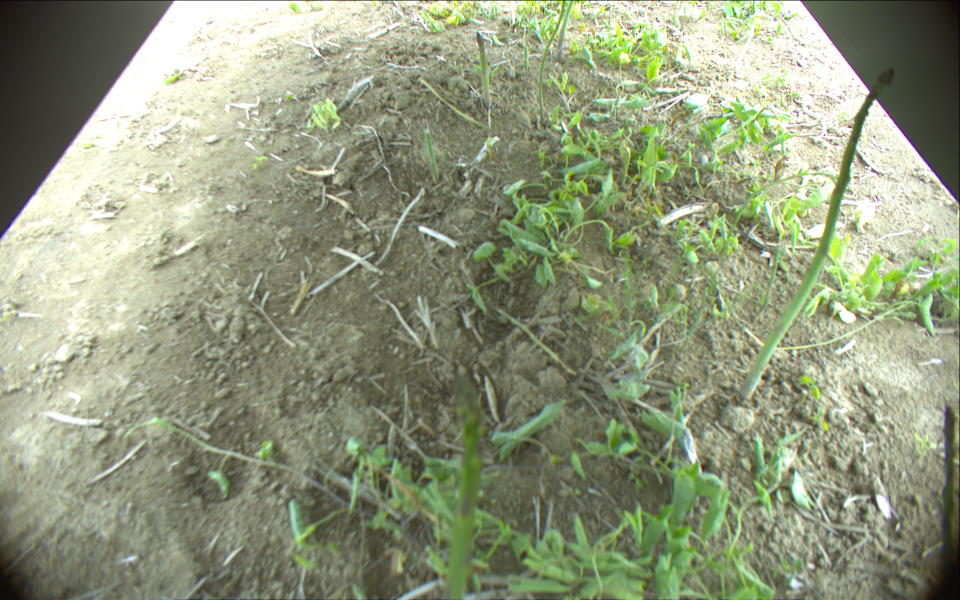aspa: (736, 69, 896, 401), (444, 373, 482, 600), (418, 76, 488, 128), (540, 1, 566, 116), (476, 30, 492, 127), (421, 119, 441, 182), (556, 1, 575, 61), (523, 42, 529, 71)
